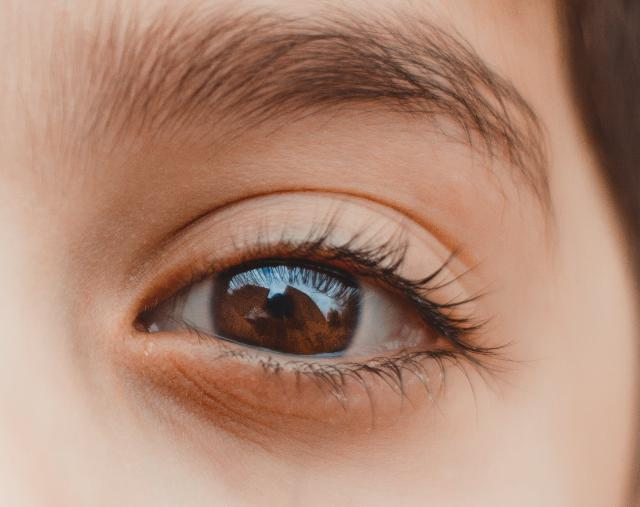eye: (208, 252, 364, 362)
